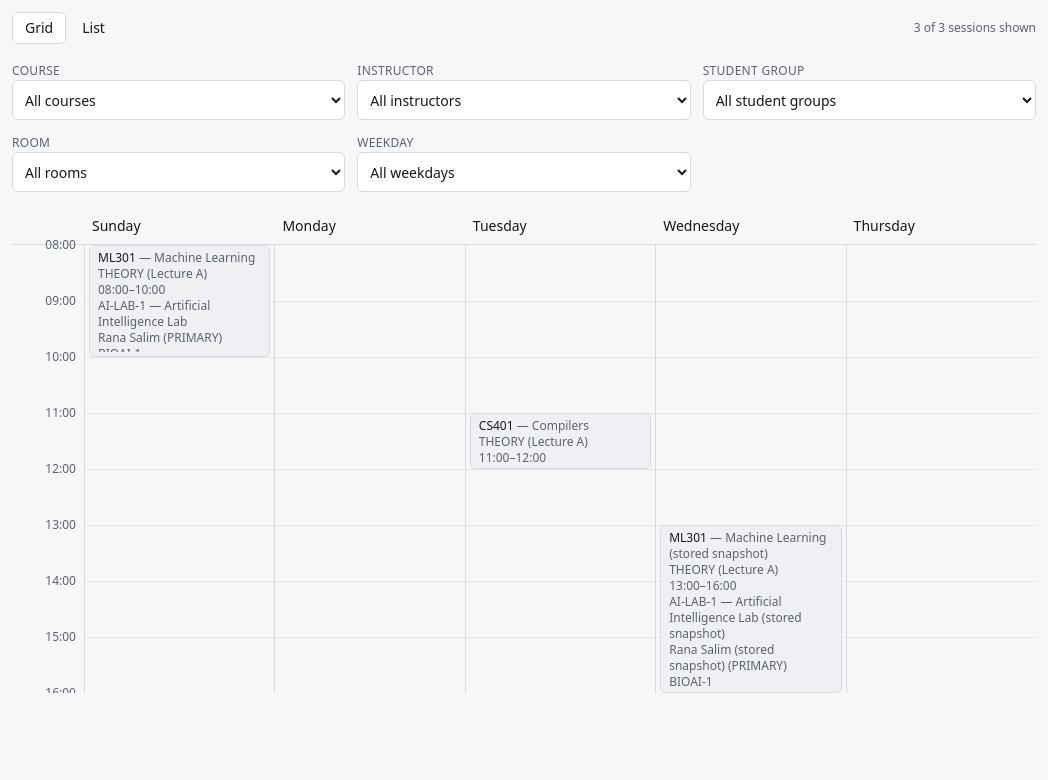
Test: grid and list together › filters by weekday using the college week labels
Select "Wednesday" in the dropdown labelled "Weekday". click: (524, 172)
box: x1=357 y1=152 x2=691 y2=192
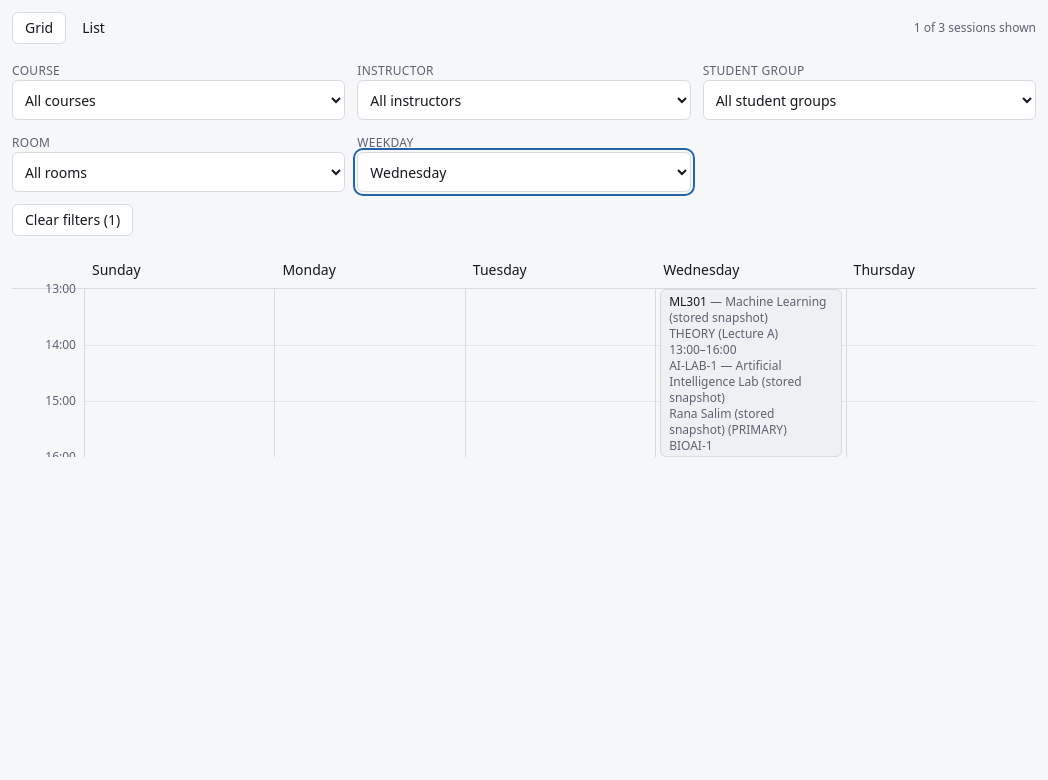
Check: the text "1 of 3 sessions shown" is shown, box x1=914 y1=20 x2=1036 y2=36
Check: the number of list items is 1, box x1=660 y1=289 x2=842 y2=457
